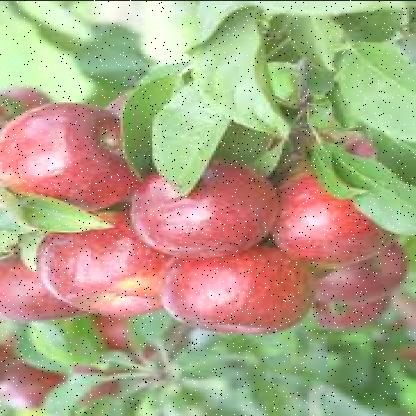apple: (0, 91, 132, 216), (121, 160, 272, 252), (148, 243, 300, 333), (48, 213, 166, 312), (270, 183, 378, 271)
